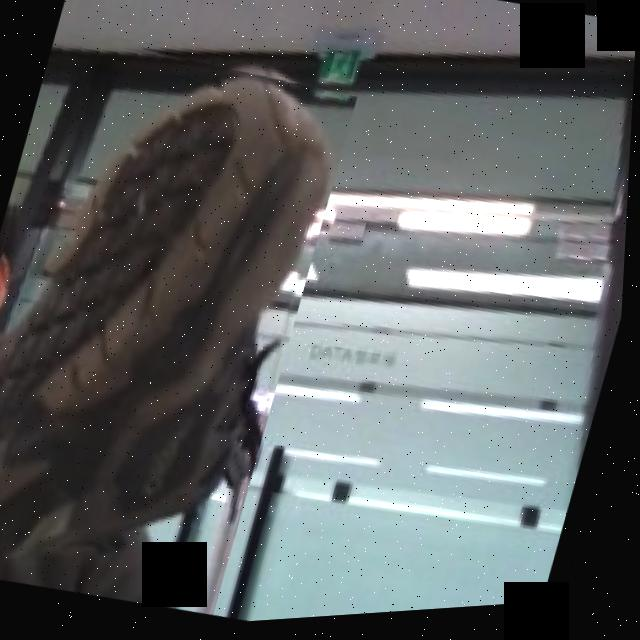shoe: (0, 15, 365, 631)
